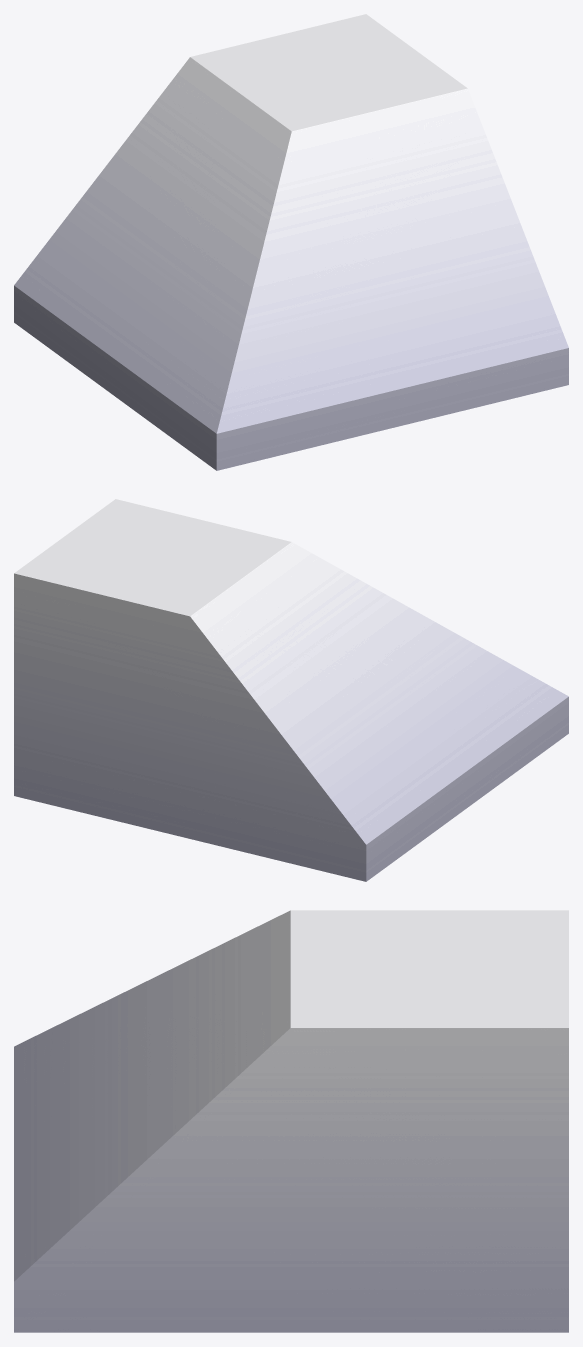
Rendered from brick-kit--none-lq-brick-slope-corner-outside-2x2.glb.
3 renders of one model, top to bottom at view 1: azimuth 30°, elevation 25°; view 2: azimuth 150°, elevation 25°; view 3: azimuth 270°, elevation 25°, orthographic. The views are drawn at different scales.
Parts seen in each view (by area): view 1: none-lq-brick-slope-corner-outside-2x2; view 2: none-lq-brick-slope-corner-outside-2x2; view 3: none-lq-brick-slope-corner-outside-2x2.
Part boxes in pixels (left/top/right/bottom): none-lq-brick-slope-corner-outside-2x2: left=14, top=14, right=568, bottom=470; none-lq-brick-slope-corner-outside-2x2: left=14, top=499, right=568, bottom=881; none-lq-brick-slope-corner-outside-2x2: left=14, top=910, right=568, bottom=1332.
Size of the model in its own units: 0.159 by 0.096 by 0.1585.
1 material, 1 textured.
